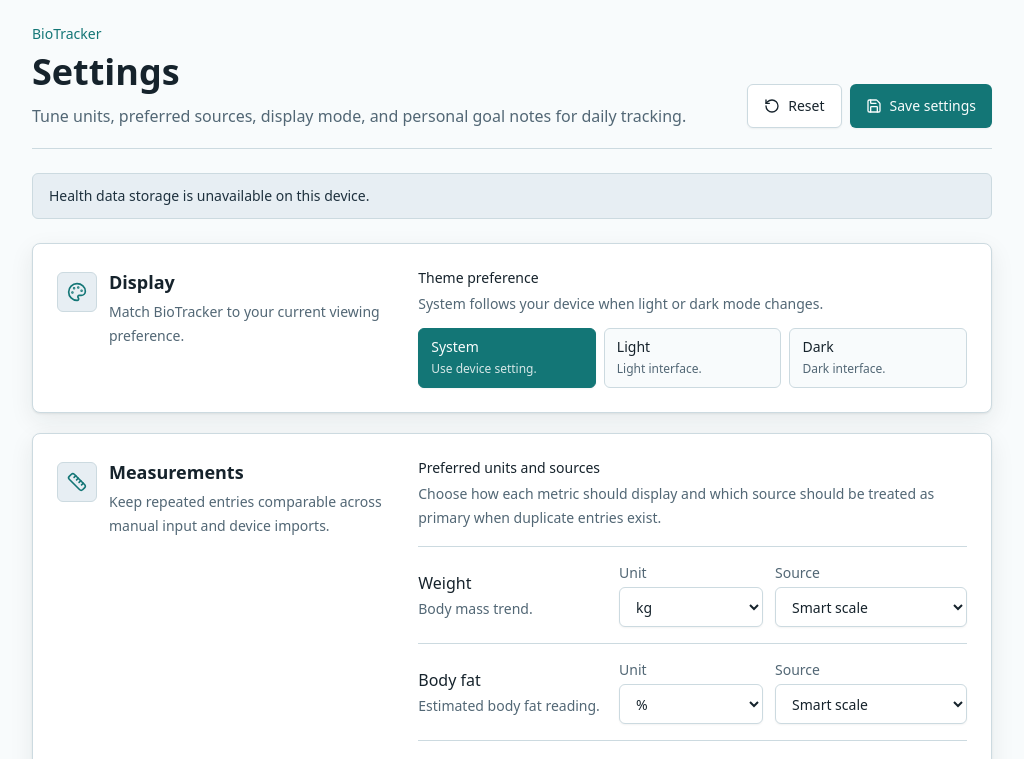
Test: settings route › saves edited settings and preserves non-edited fields
Select "lb" in the dropdown with id "weight-unit" at coordinates (691, 607), box [619,587,763,627]
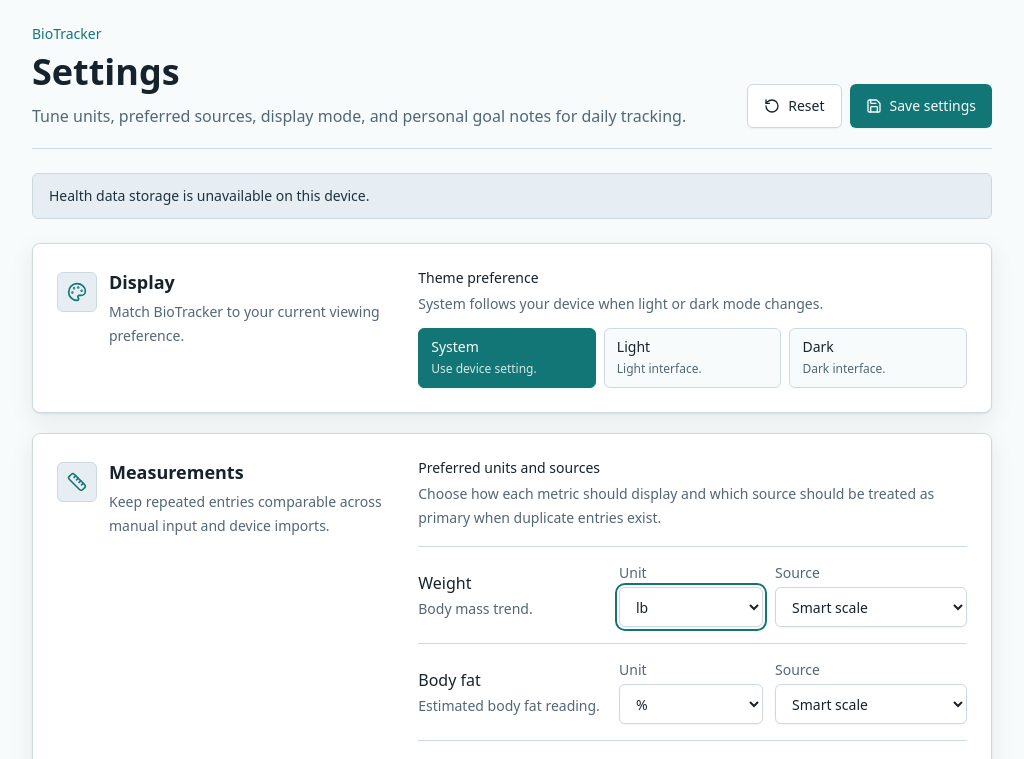
Click the button "Save settings" at coordinates (921, 106), box [850,84,992,128]
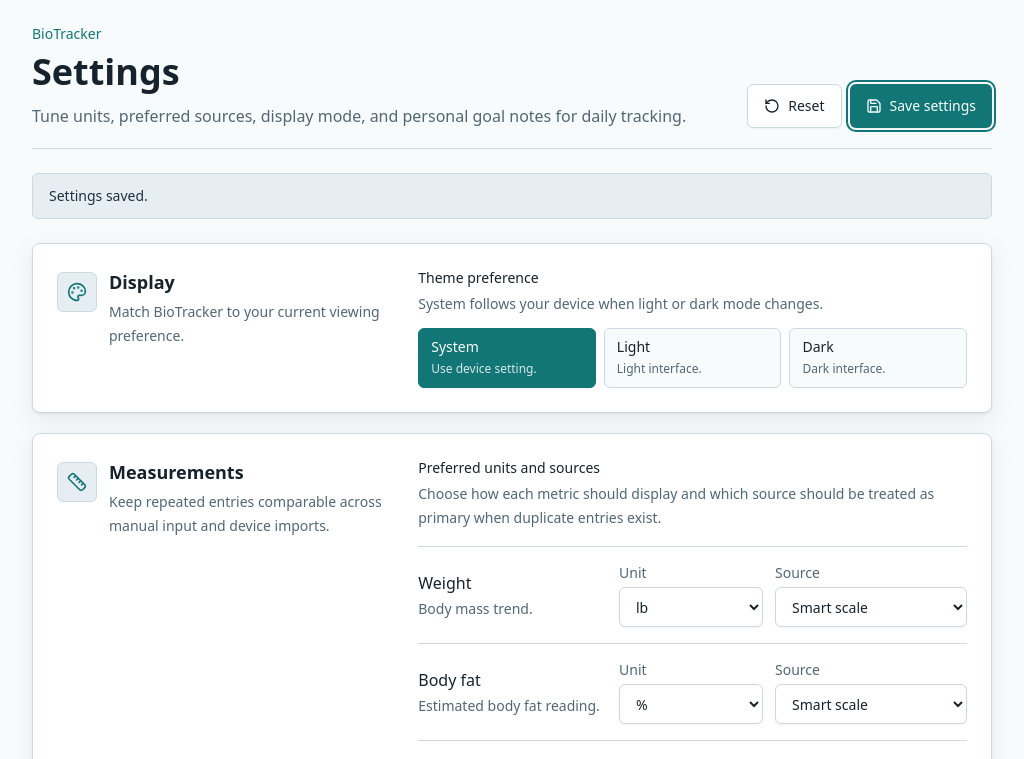
Expected: the message reads "Settings saved.", [49,186,148,205]
